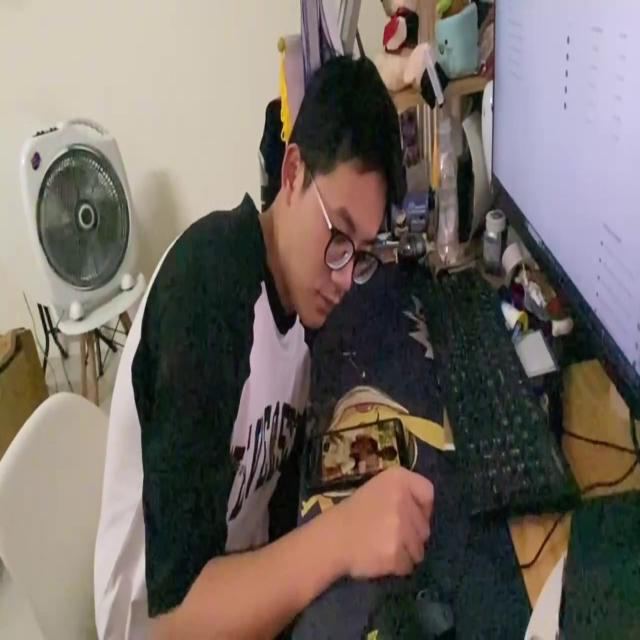laptop: (490, 0, 640, 418)
phone: (304, 418, 408, 485)
student: (87, 52, 434, 640)
